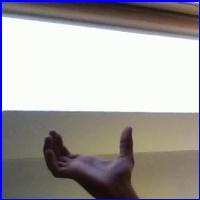space: (28, 114, 149, 195)
